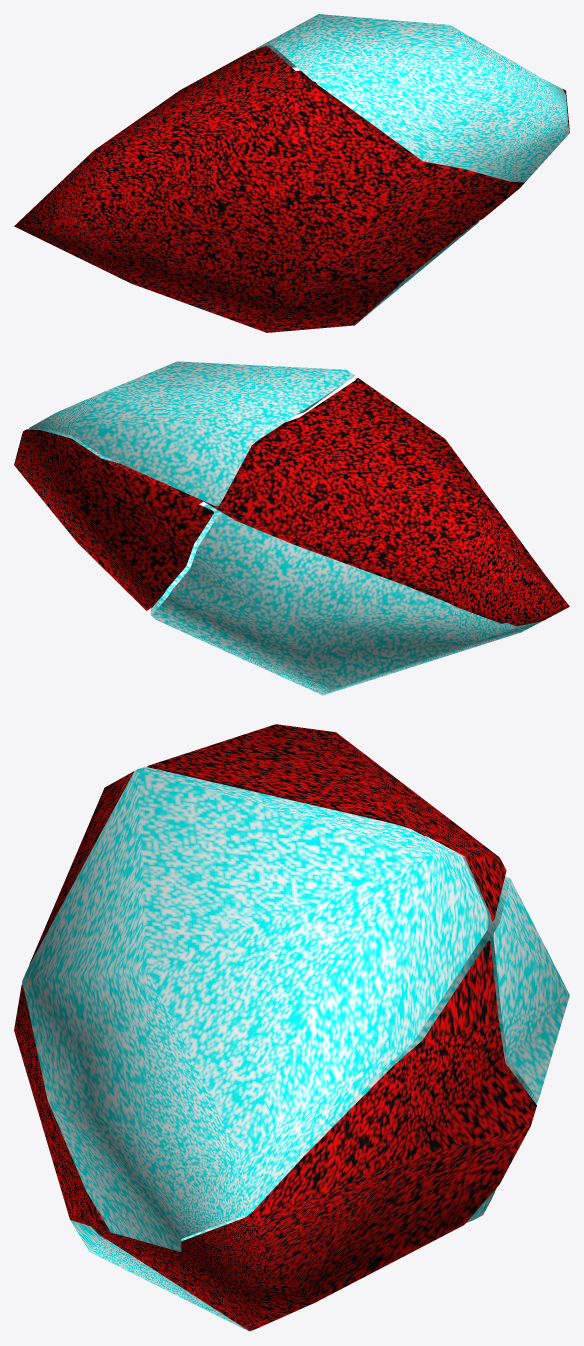
Rendered from SM_Acid_Crystal_KJS.fbx.
3 renders of one model, top to bottom at view 1: azimuth 30°, elevation 25°; view 2: azimuth 150°, elevation 25°; view 3: azimuth 270°, elevation 25°, orthographic. The views are drawn at different scales.
Parts seen in each view (by area): view 1: SM_Acid_Crystal_KJS; view 2: SM_Acid_Crystal_KJS; view 3: SM_Acid_Crystal_KJS.
Part boxes in pixels (x1,y1,x2,y2): SM_Acid_Crystal_KJS: [14, 14, 569, 332]; SM_Acid_Crystal_KJS: [14, 361, 569, 695]; SM_Acid_Crystal_KJS: [14, 724, 569, 1331].
Size of the model in its own units: 8.63 by 3.84 by 4.06.
